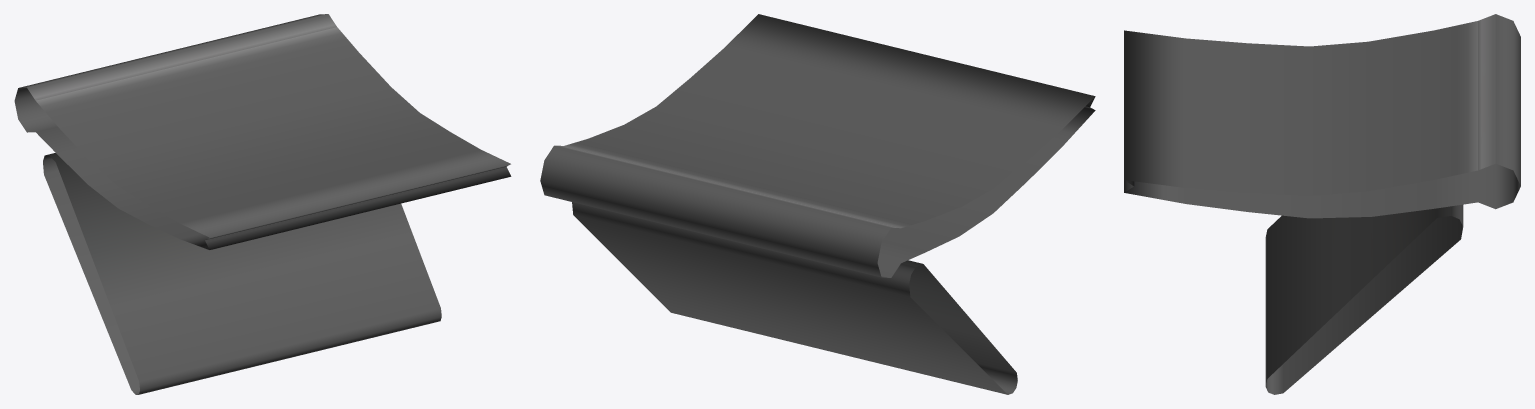
The model's file is tiles_prison_couch_1.glb.
3 views of the same model, side by side, from view 1: azimuth 30°, elevation 25°; view 2: azimuth 150°, elevation 25°; view 3: azimuth 270°, elevation 25° (orthographic). The views are drawn at different scales.
Parts seen in each view (by area): view 1: PrisonCouch1; view 2: PrisonCouch1; view 3: PrisonCouch1.
Part boxes in pixels (x1,y1,x2,y2): PrisonCouch1: (14, 14, 511, 394); PrisonCouch1: (540, 14, 1095, 394); PrisonCouch1: (1124, 14, 1520, 394).
Bounding box in the file's own units: 2 × 1.44 × 2.24.
1 material, 1 textured.
